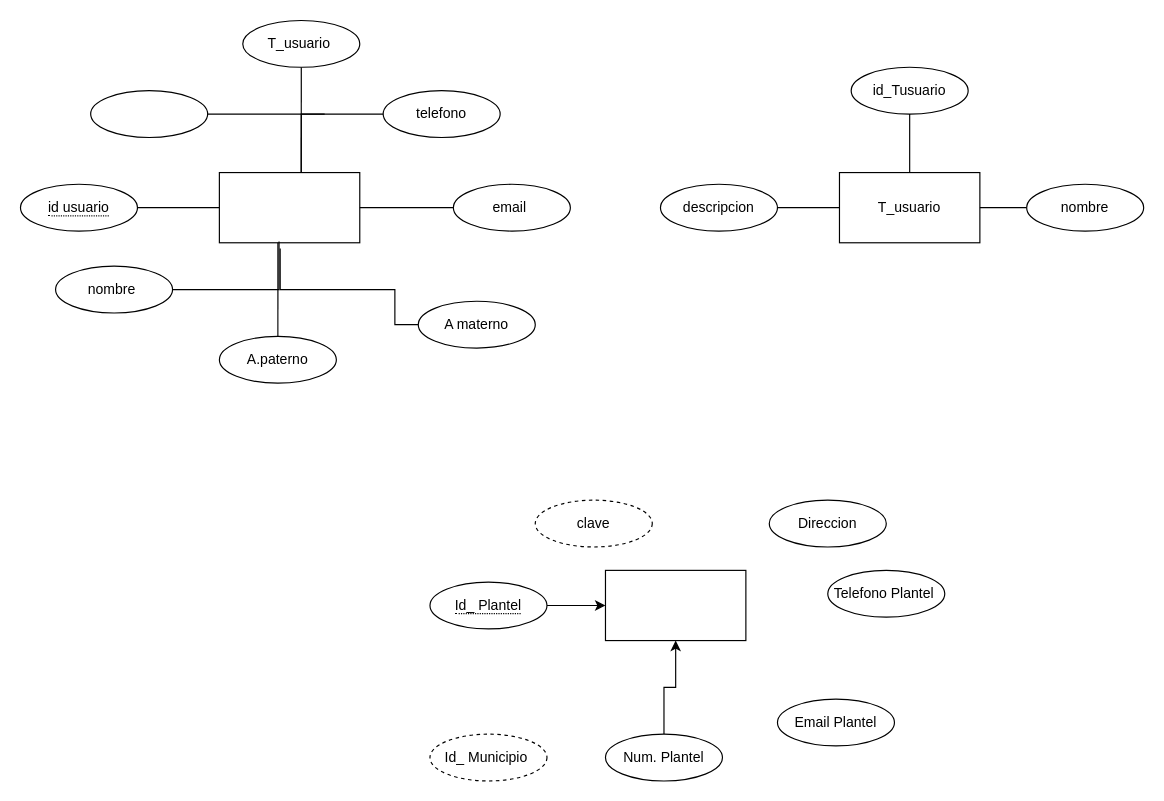
This 1164x801 diagram has some shape labels left out. The shapes that lost their labels are listed below. From the top down, each one's box as (x1, y1, x2, y2) in pixels, then its label:
(90, 90, 208, 137): password
(218, 171, 360, 243): usuario
(604, 569, 746, 641): plantel
